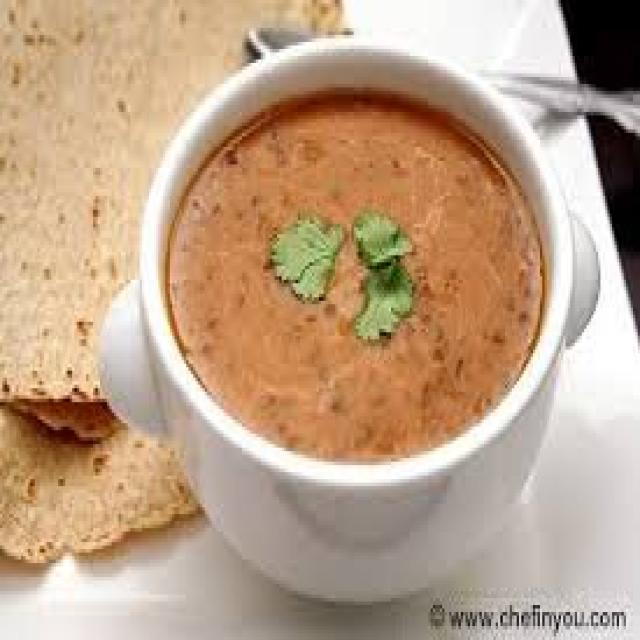dal_makhani: (157, 57, 560, 490)
